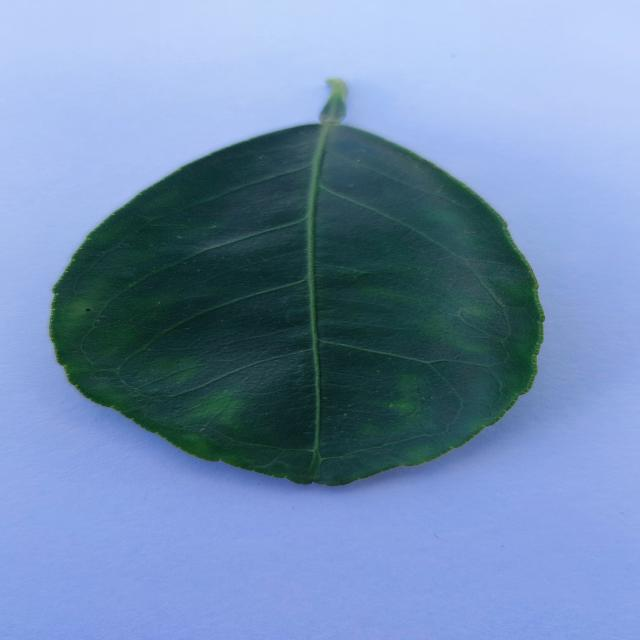greening: (51, 81, 542, 485)
